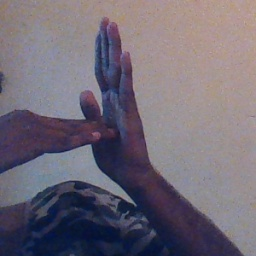Z: (29, 14, 149, 185)
